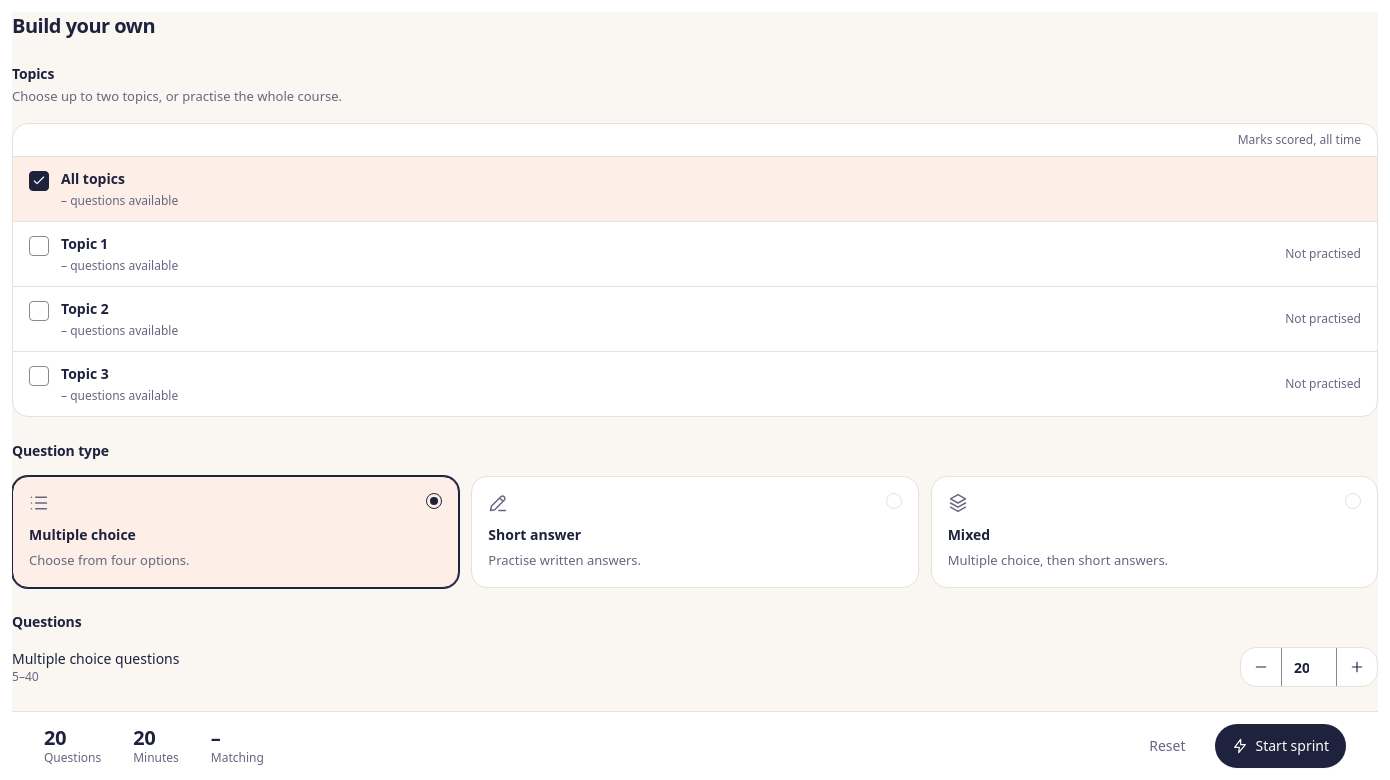
caps topics at two and handles malformed saved JSON
Click the button "Topic 1 – questions available Not practised" at (84, 243), box [29,234,1361,274]
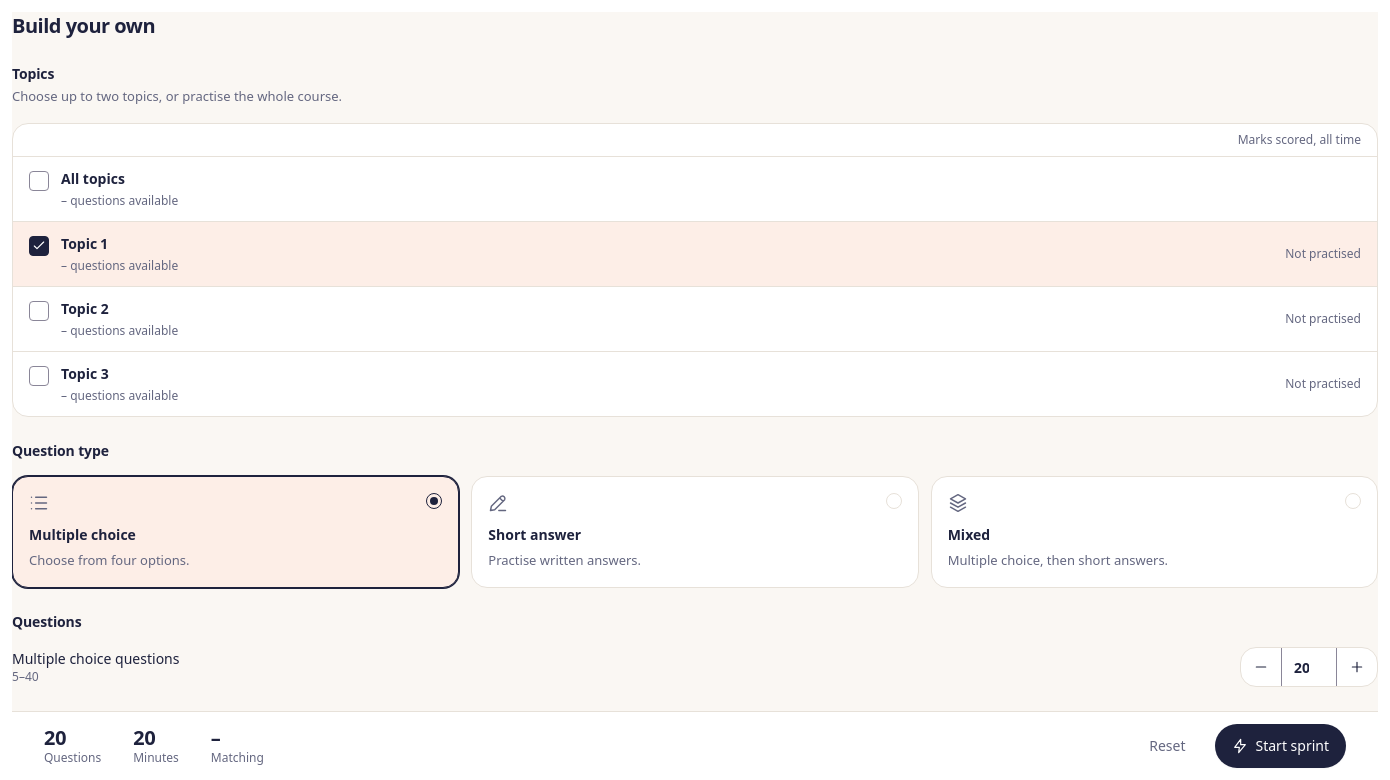
Click the button "Topic 2 – questions available Not practised" at (85, 308), box [29,299,1361,339]
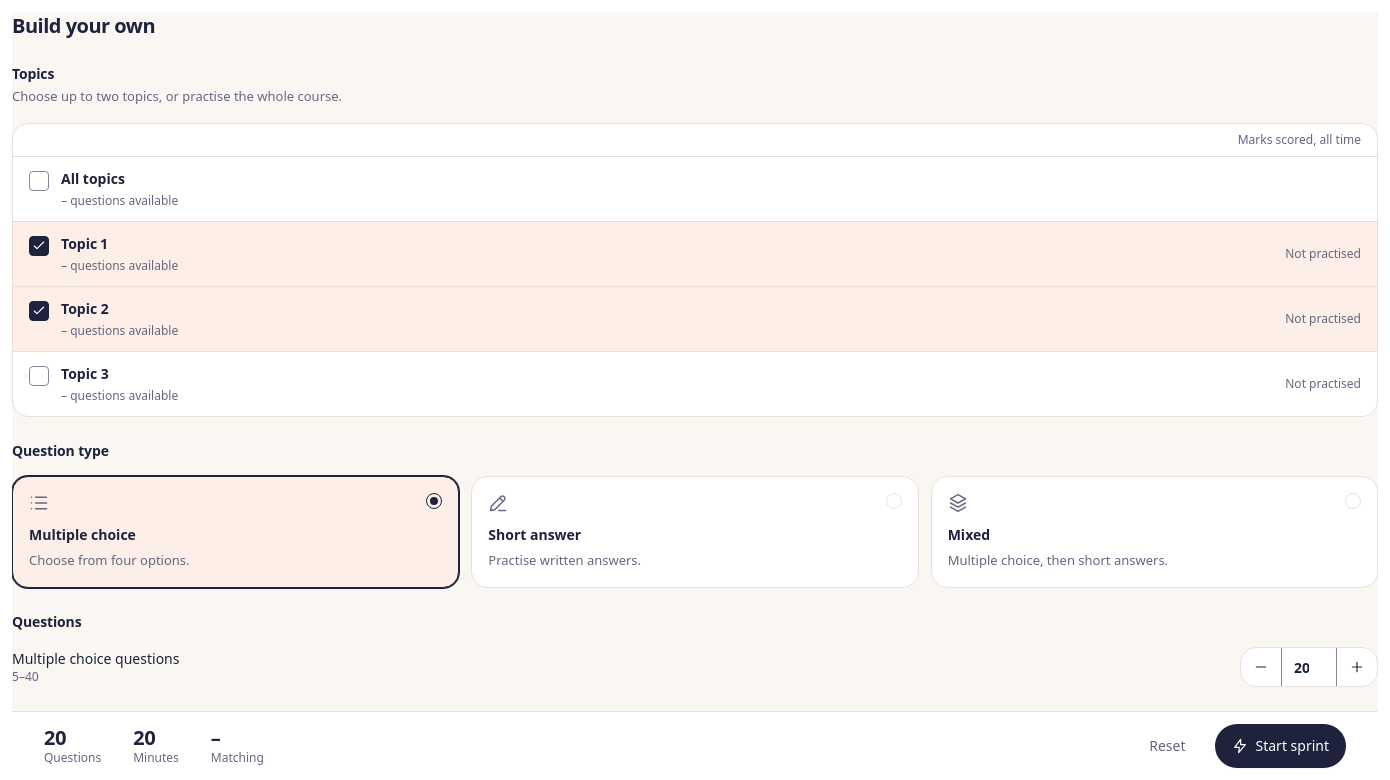
Click the button "Topic 3 – questions available Not practised" at (85, 373), box [29,364,1361,404]
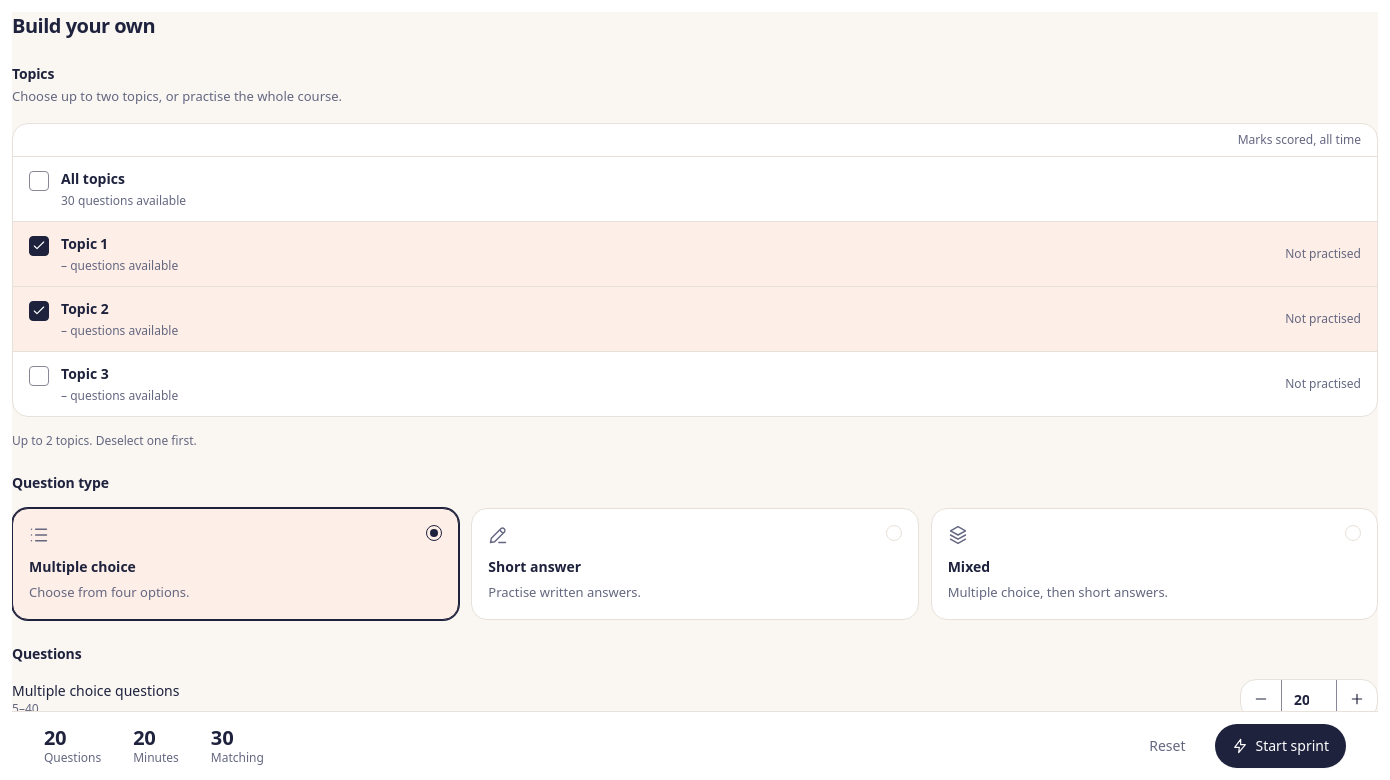
expect the text "Up to 2 topics. Deselect one first." is shown: met, box [12,432,197,449]
